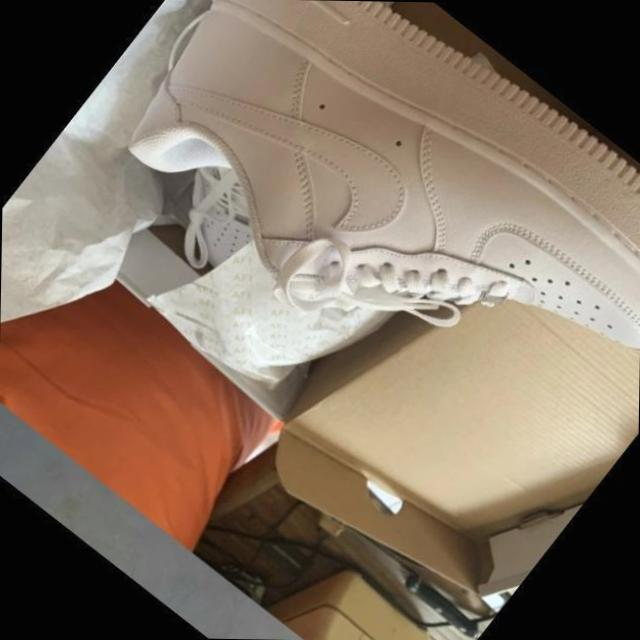nike_original_airforce: (82, 0, 640, 513)
